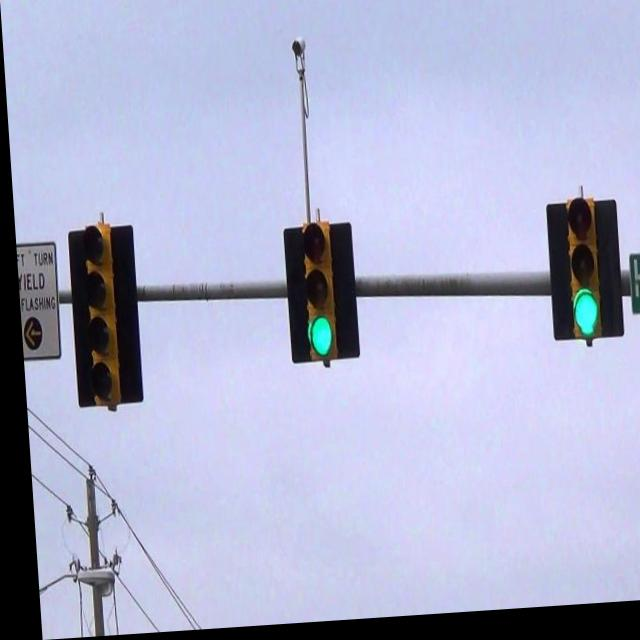green light: (292, 221, 335, 369), (562, 204, 597, 343)
